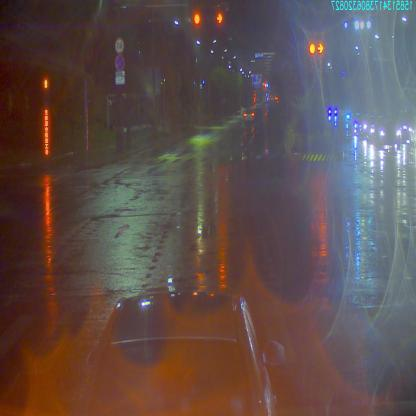traffic-light: (216, 6, 226, 27), (192, 12, 202, 28)
